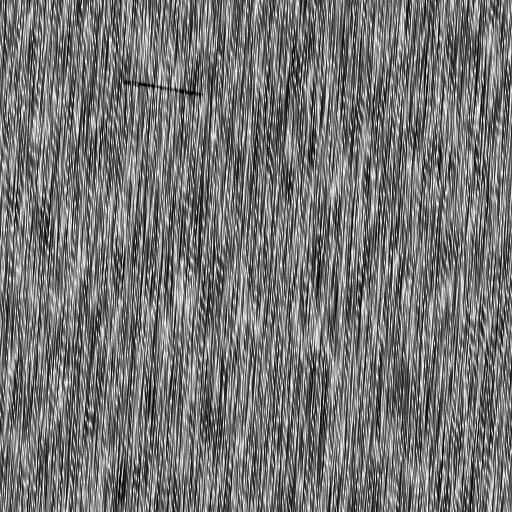DefectTypeC: (120, 78, 204, 101)
